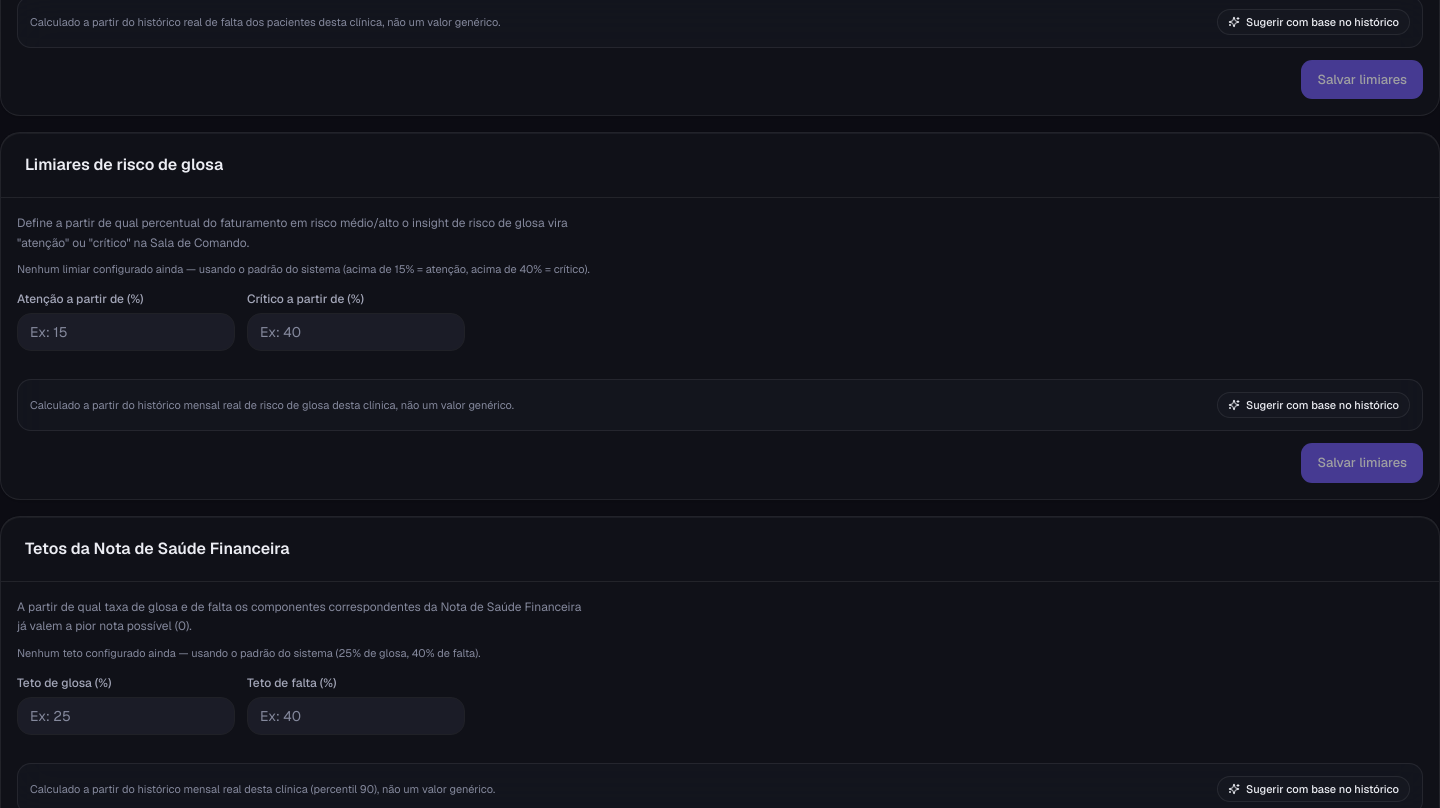
it: TenantPage — Épico F2.1 do Plano Diretor (Calibração por especialidade/porte) › owner vê a sugestão calculada e pode preencher os campos com ela
(page scrolled)
Expected: the heading "Limiares de risco de glosa" is shown, [25,153,223,177]
Click the 2nd button "Sugerir com base no histórico": (1314, 405) [1217,392,1410,418]
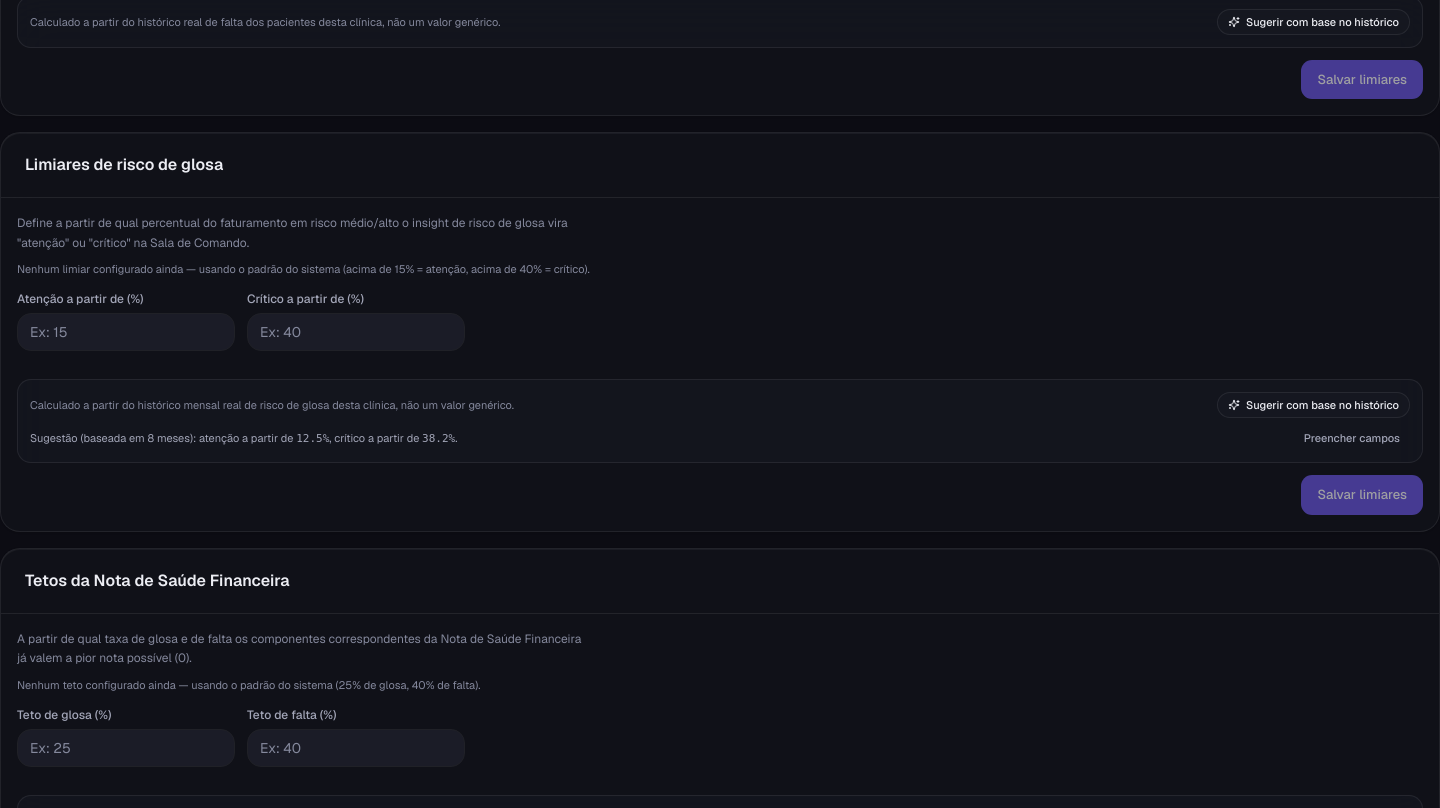
Result: the text "Sugestão (baseada em 8 meses)" is shown at [30,430,458,446]
Click the button "Preencher campos": (1352, 438) [1294,426,1410,450]
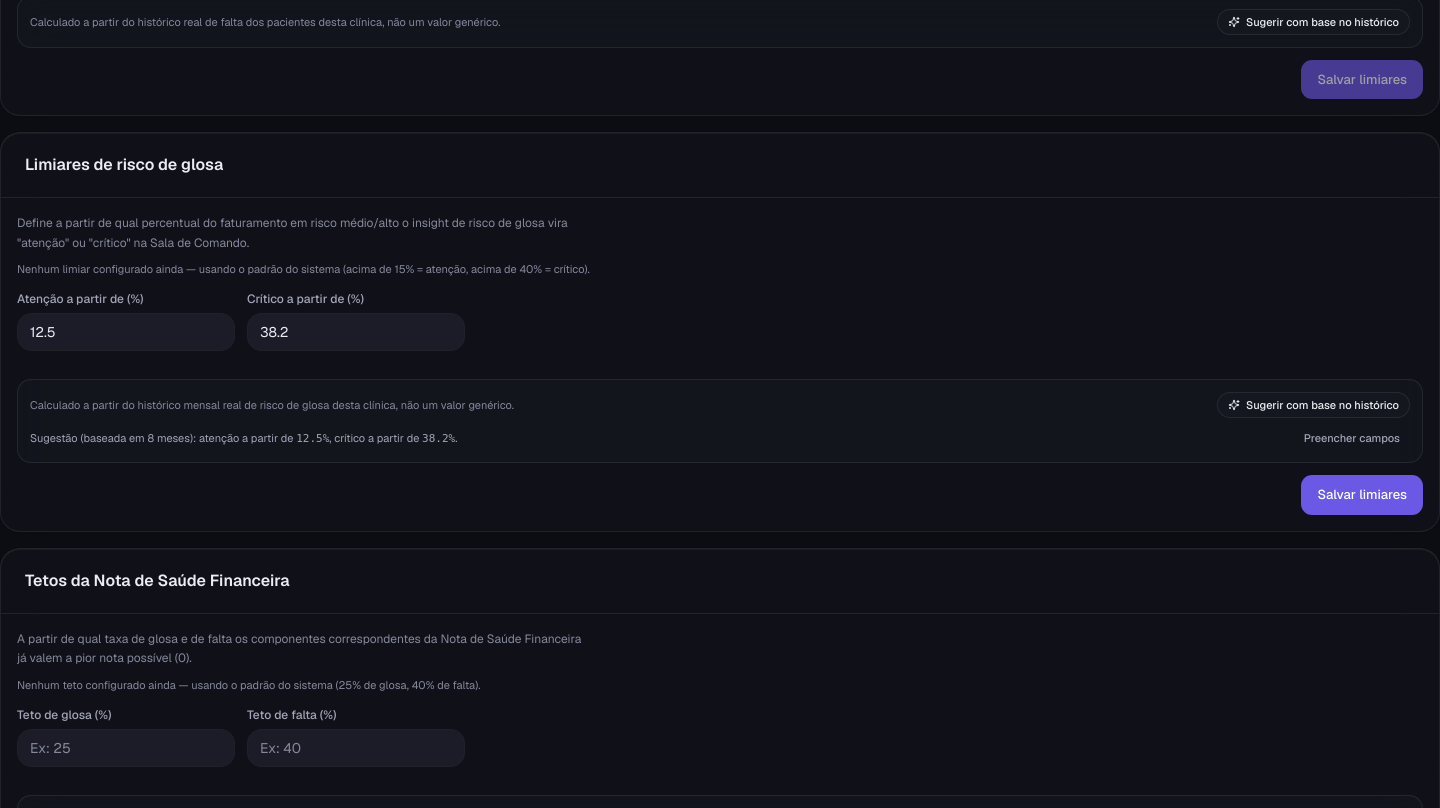
Result: the number field labelled "Atenção a partir de (%)" holds "12.5" at [17,313,235,351]
Result: the number field labelled "Crítico a partir de (%)" holds "38.2" at [247,313,465,351]
